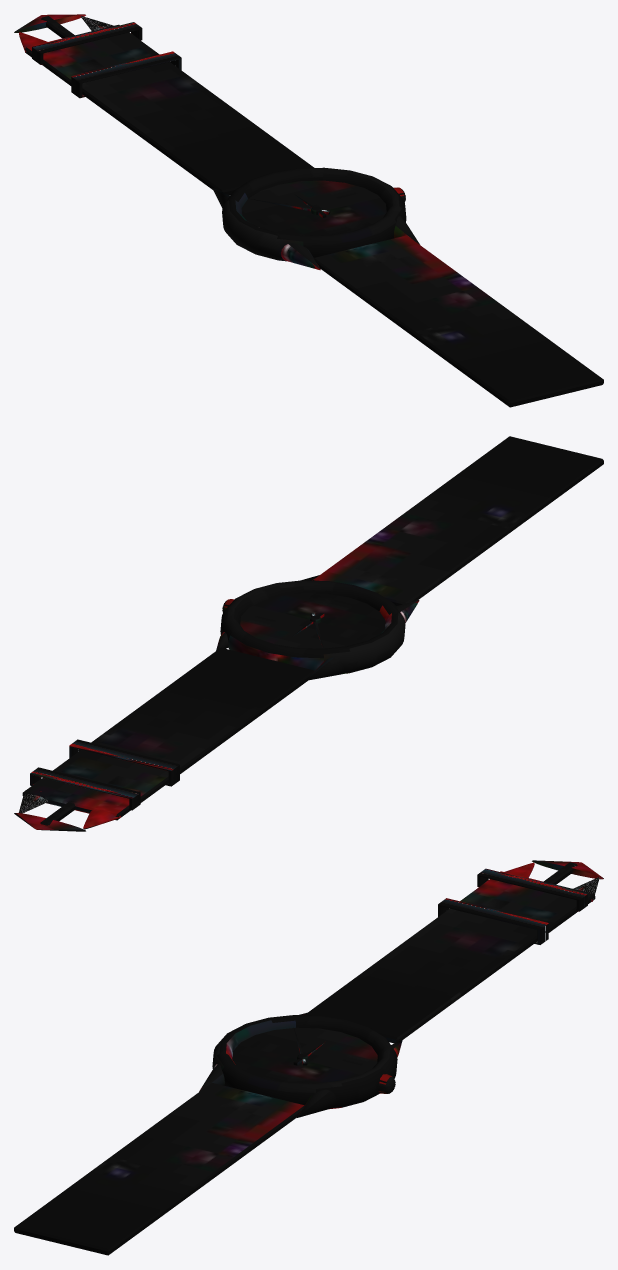
File: Watch uv and texture.fbx
3 views of the same model, one above another, from view 1: azimuth 30°, elevation 25°; view 2: azimuth 150°, elevation 25°; view 3: azimuth 330°, elevation 25° (orthographic).
Parts seen in each view (by area): view 1: pasted__pasted__pCube1 (×2), pasted__pCube1, pTorus1, pCylinder1, pasted__pasted__pasted__pCube1, pasted__pCone1, pasted__pasted__pCone2; view 2: pasted__pasted__pCube1 (×2), pasted__pCube1, pTorus1, pCylinder1, pasted__pasted__pasted__pCube1, pasted__pasted__pCone2; view 3: pasted__pasted__pCube1 (×2), pasted__pCube1, pTorus1, pCylinder1, pasted__pasted__pasted__pCube1, pCone1, pasted__pasted__pCone2.
Boxes of the visible parts, <box> form: pasted__pasted__pCube1 (×2): <box>32,22,603,407</box>; pasted__pCube1: <box>25,24,314,194</box>; pTorus1: <box>222,167,406,261</box>; pCylinder1: <box>241,180,386,235</box>; pasted__pasted__pasted__pCube1: <box>71,51,181,98</box>; pasted__pCone1: <box>281,243,320,270</box>; pasted__pasted__pCone2: <box>14,14,85,32</box>; pasted__pasted__pCube1 (×2): <box>30,436,603,810</box>; pasted__pCube1: <box>22,647,314,820</box>; pTorus1: <box>220,580,405,673</box>; pCylinder1: <box>240,593,385,648</box>; pasted__pasted__pasted__pCube1: <box>69,739,179,786</box>; pasted__pasted__pCone2: <box>14,813,85,831</box>; pasted__pasted__pCube1 (×2): <box>14,868,587,1255</box>; pasted__pCube1: <box>304,871,595,1043</box>; pTorus1: <box>212,1015,397,1109</box>; pCylinder1: <box>232,1027,377,1083</box>; pasted__pasted__pasted__pCube1: <box>438,898,548,944</box>; pCone1: <box>297,1089,336,1117</box>; pasted__pasted__pCone2: <box>532,860,603,879</box>.
Bounding box in the file's own units: 6.69 × 1.07 × 35.45.
